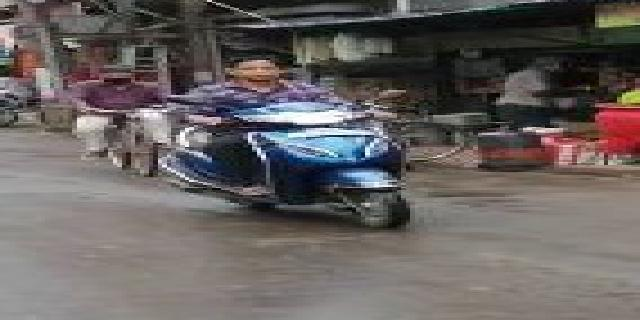Motorbike: (162, 47, 421, 248)
